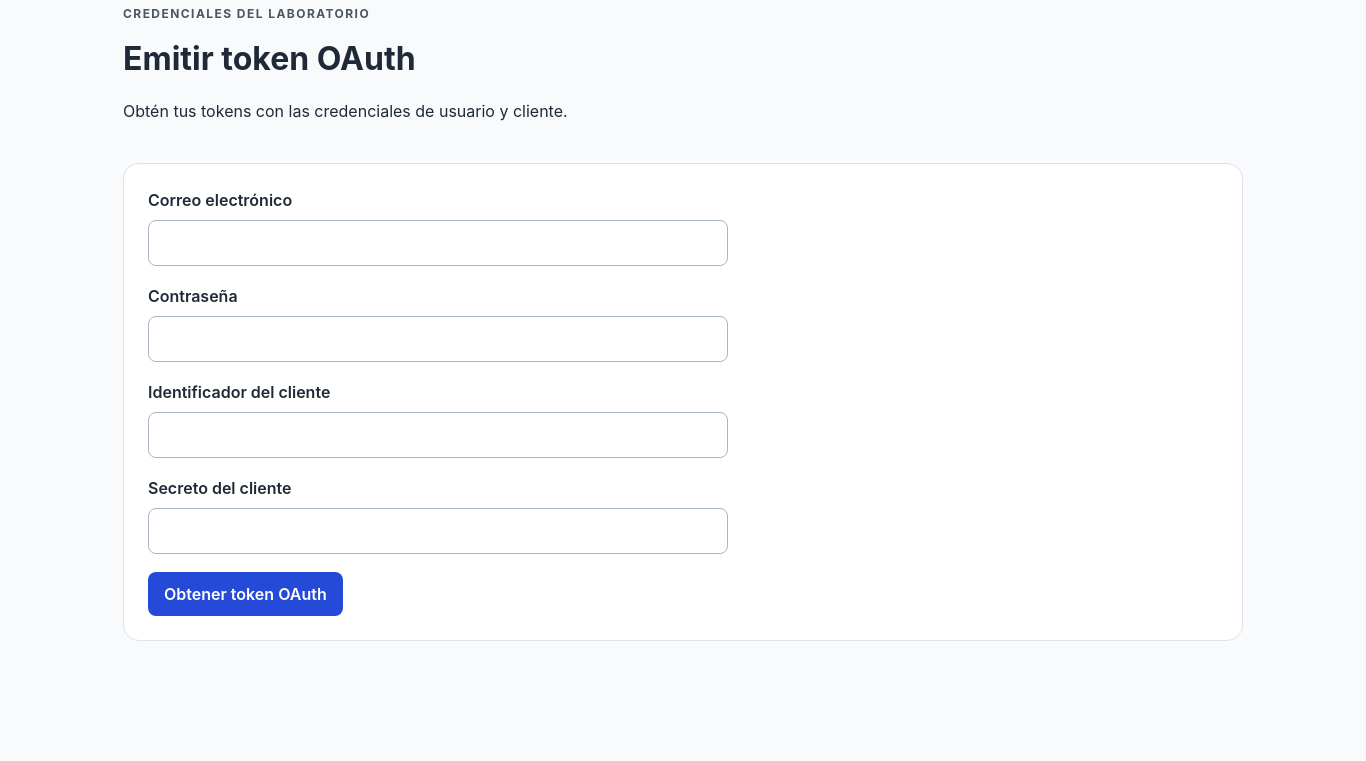
it: SCRUM-41 y SCRUM-43 › presenta ambos tokens y duración, limpia credenciales sensibles y permite ocultarlos
Type "admin@lab.test" into the field labelled "Correo electrónico" at (438, 243), box [148,220,728,266]
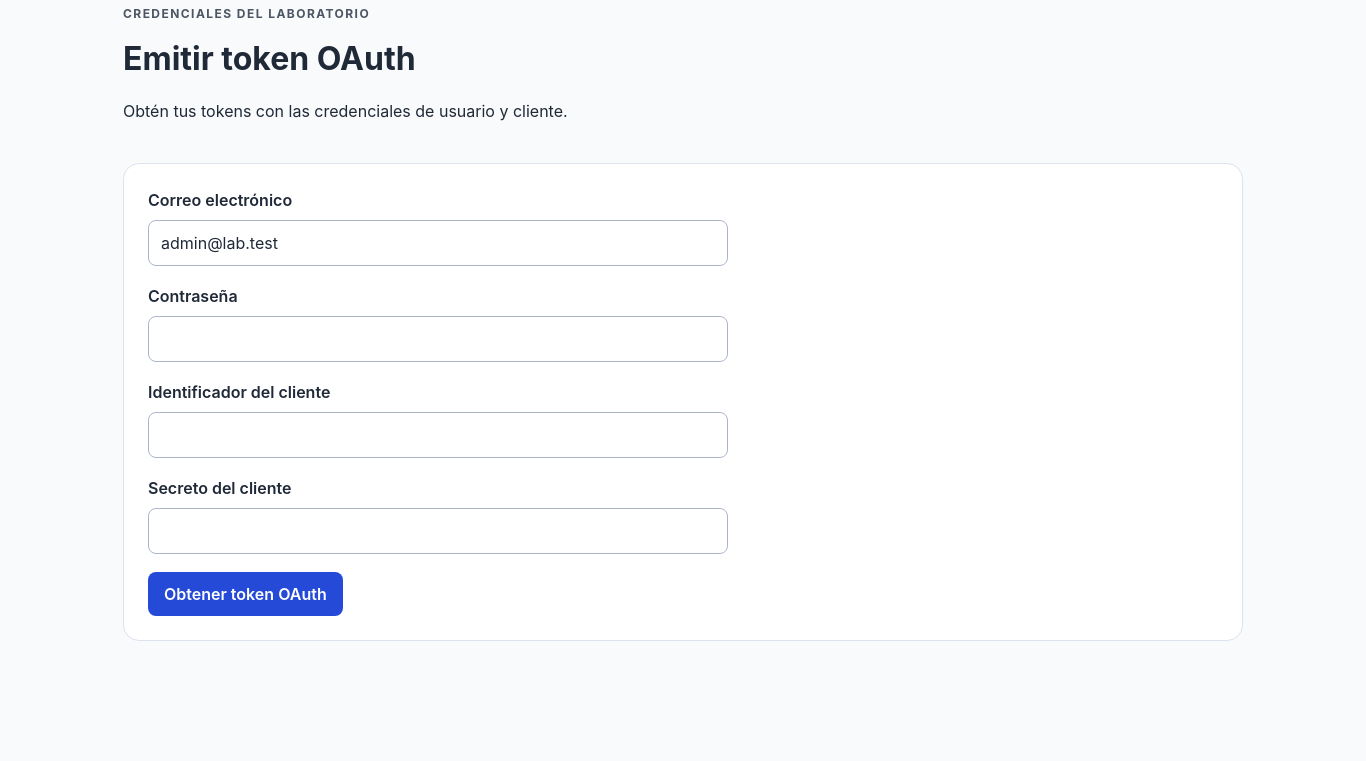
Type "password" into the password field labelled "Contraseña" at (438, 339), box [148,316,728,362]
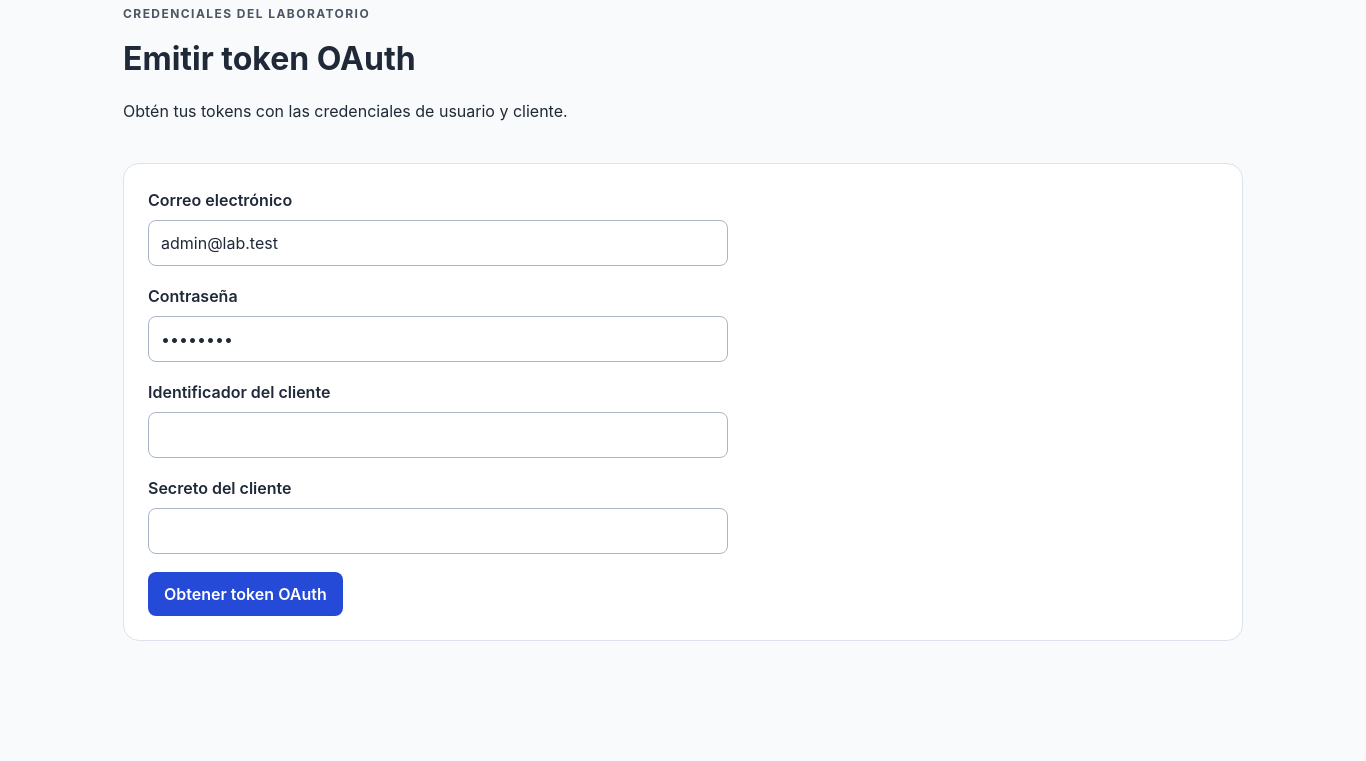
Type "lab-client" into the field labelled "Identificador del cliente" at (438, 435), box [148,412,728,458]
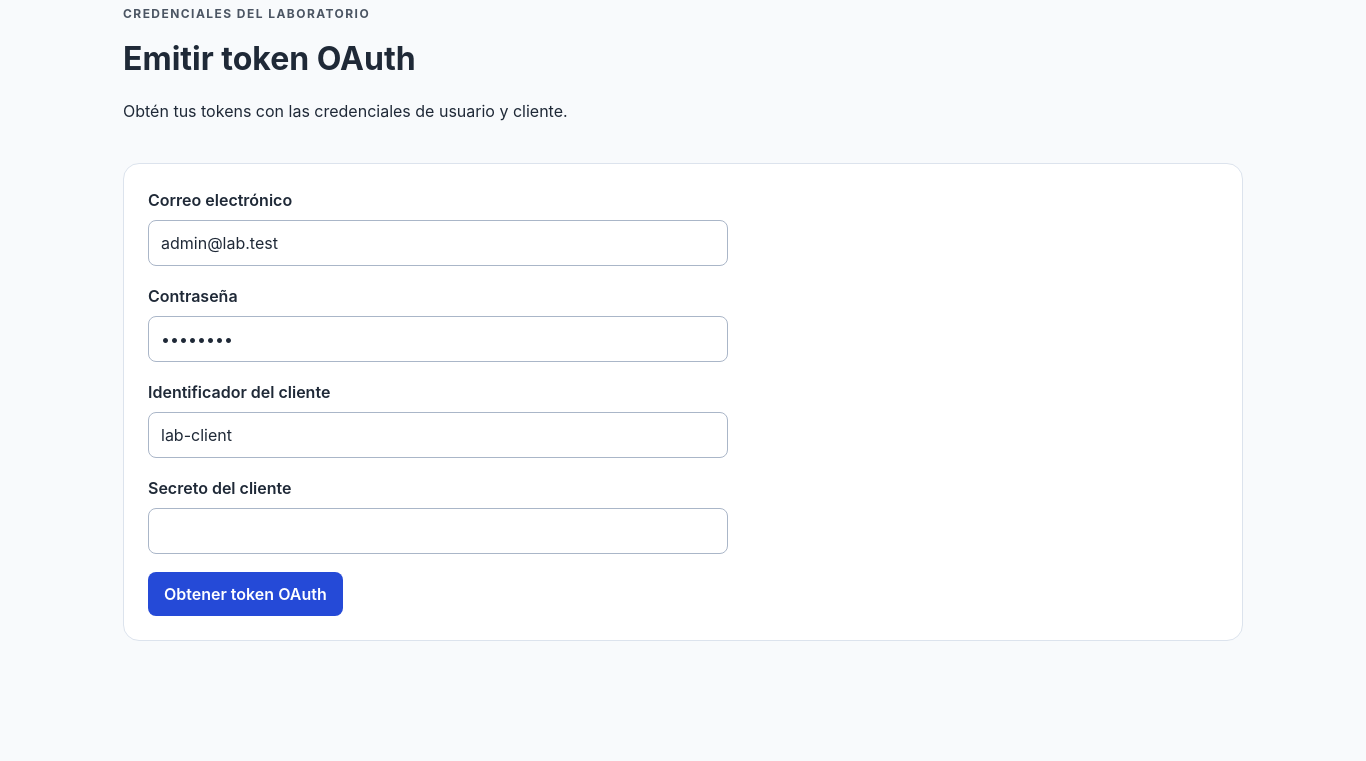
Type "secret" into the password field labelled "Secreto del cliente" at (438, 531), box [148,508,728,554]
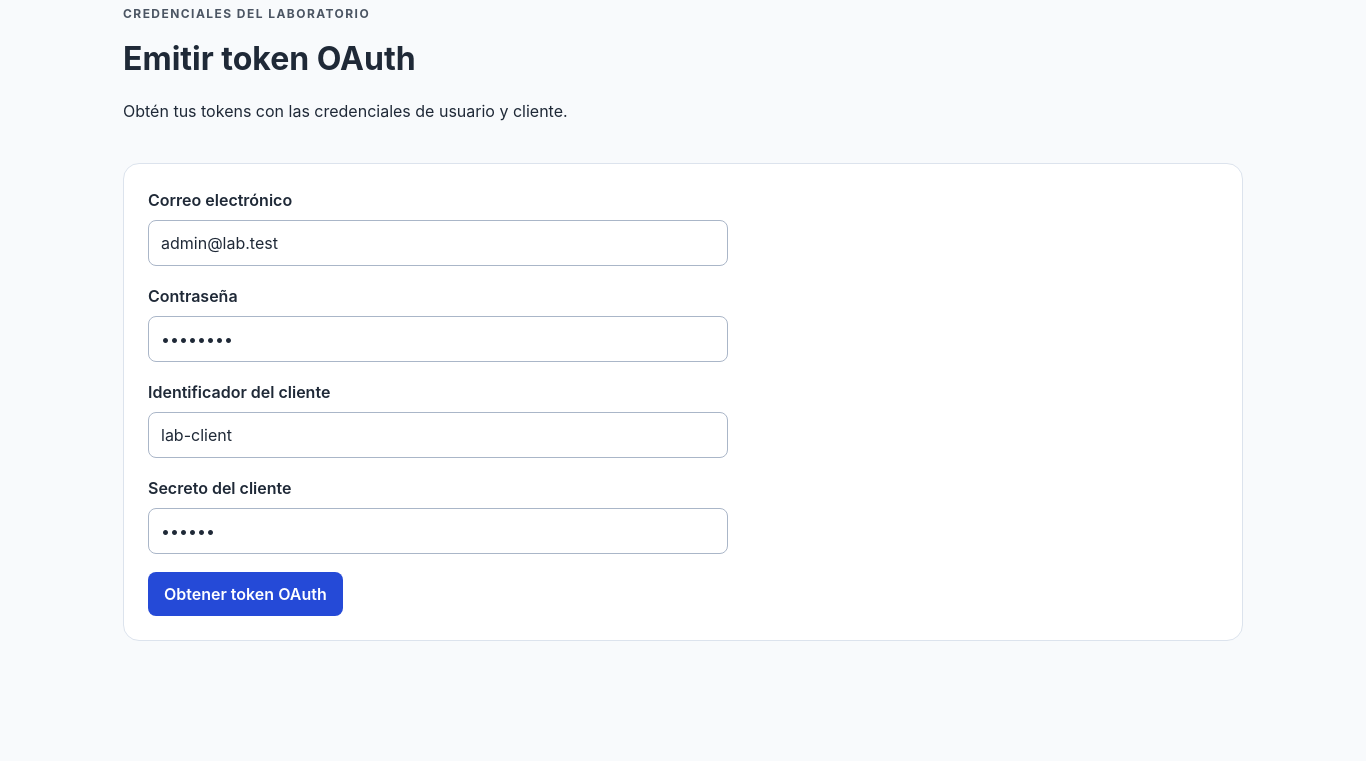
Click the button "Obtener token OAuth" at (245, 594), box [148,572,343,616]
(page scrolled)
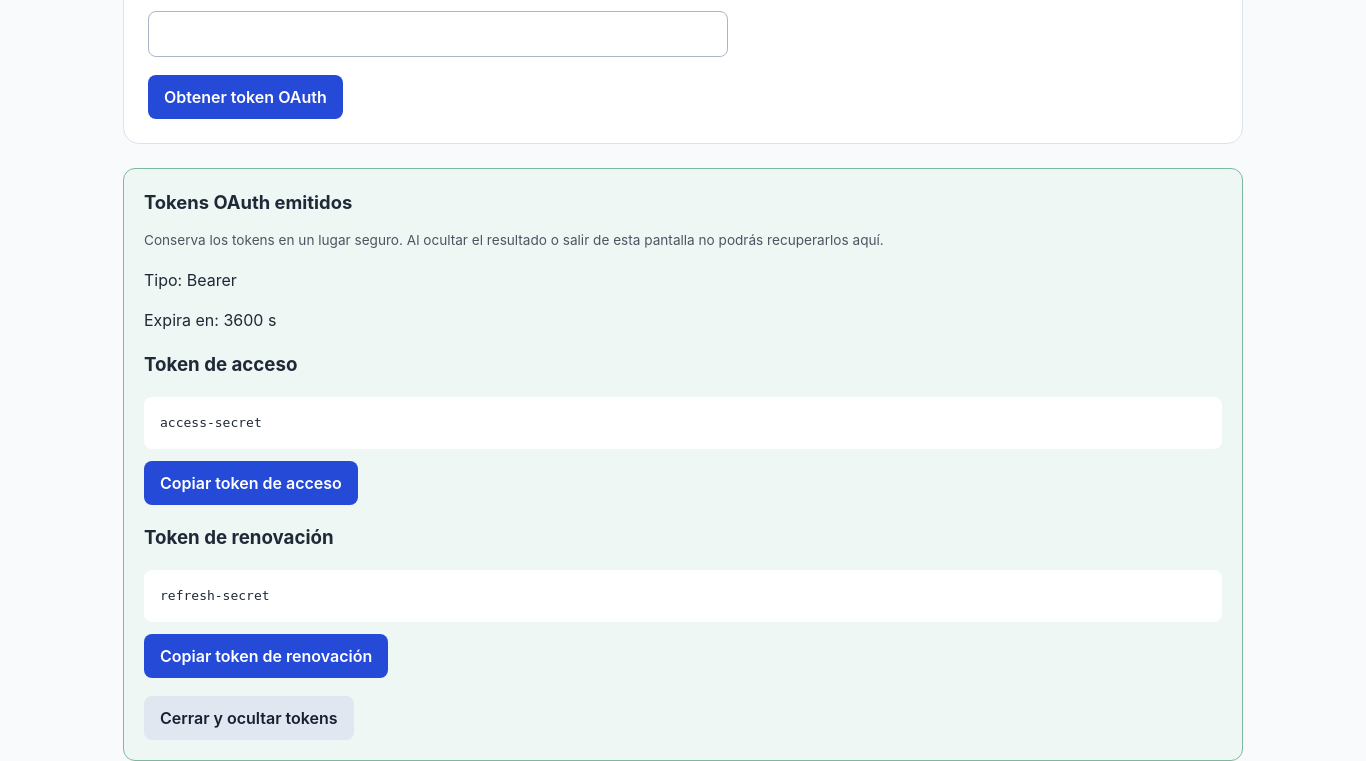
expect the text "access-secret" is shown: met, box [144,398,1222,449]
expect the text "refresh-secret" is shown: met, box [144,570,1222,622]
expect the text "Expira en: 3600 s" is shown: met, box [144,310,276,330]
Click the button "Cerrar y ocultar tokens" at (249, 718), box [144,696,354,740]
(page scrolled)
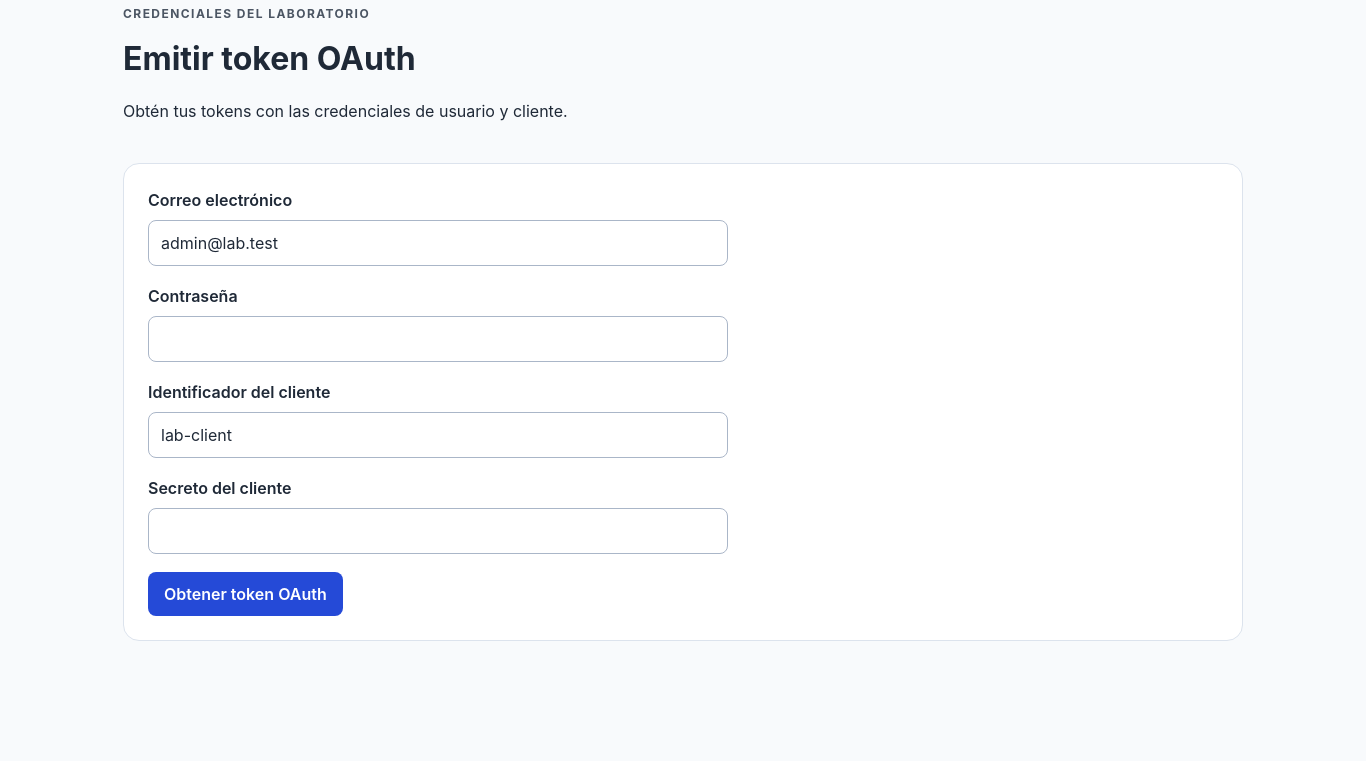
expect the text "access-secret" is gone: met
expect the text "refresh-secret" is gone: met
